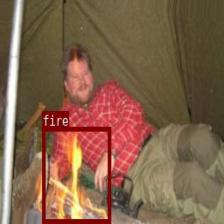fire: (42, 127, 110, 222)
